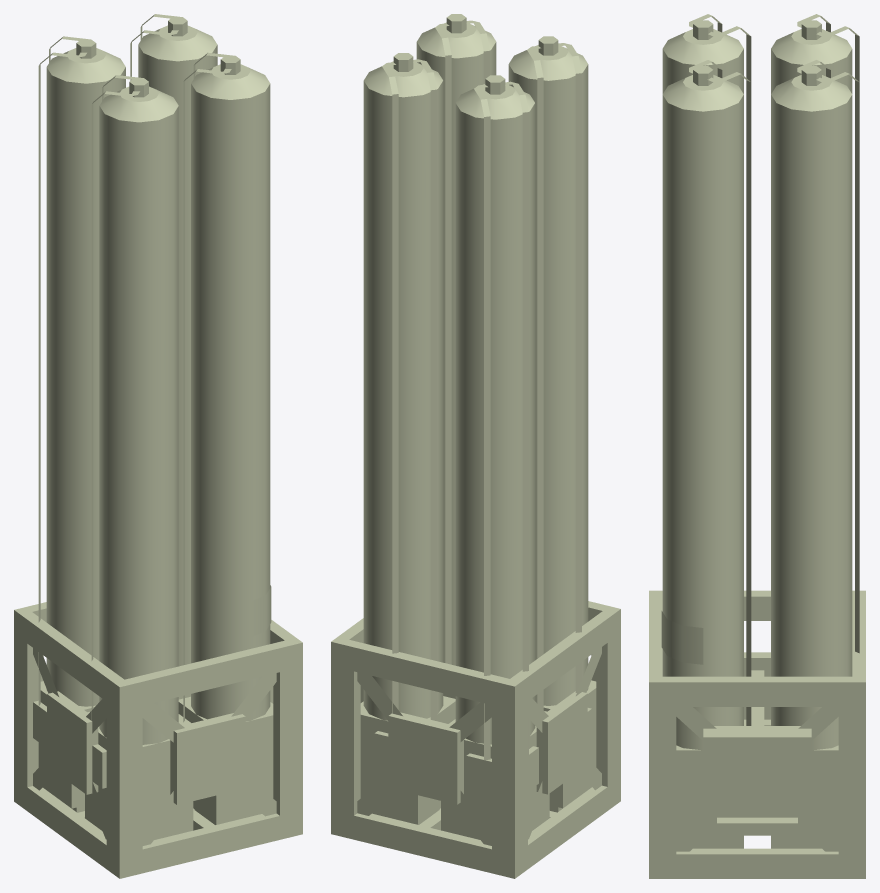
File: gascent.obj
3 renders of one model, left to right at view 1: azimuth 30°, elevation 25°; view 2: azimuth 150°, elevation 25°; view 3: azimuth 270°, elevation 25°, orthographic. The views are drawn at different scales.
Visible parts, largest first — view 1: Centrifuge, Flag; view 2: Centrifuge; view 3: Centrifuge, Flag.
Part boxes in pixels (box(x1,y1,x2,y2)): Centrifuge: box(14, 14, 302, 878); Flag: box(251, 585, 271, 636); Centrifuge: box(331, 14, 620, 878); Centrifuge: box(649, 14, 865, 878); Flag: box(661, 611, 703, 664).
Bounding box in the file's own units: 1.06 × 4 × 1.
